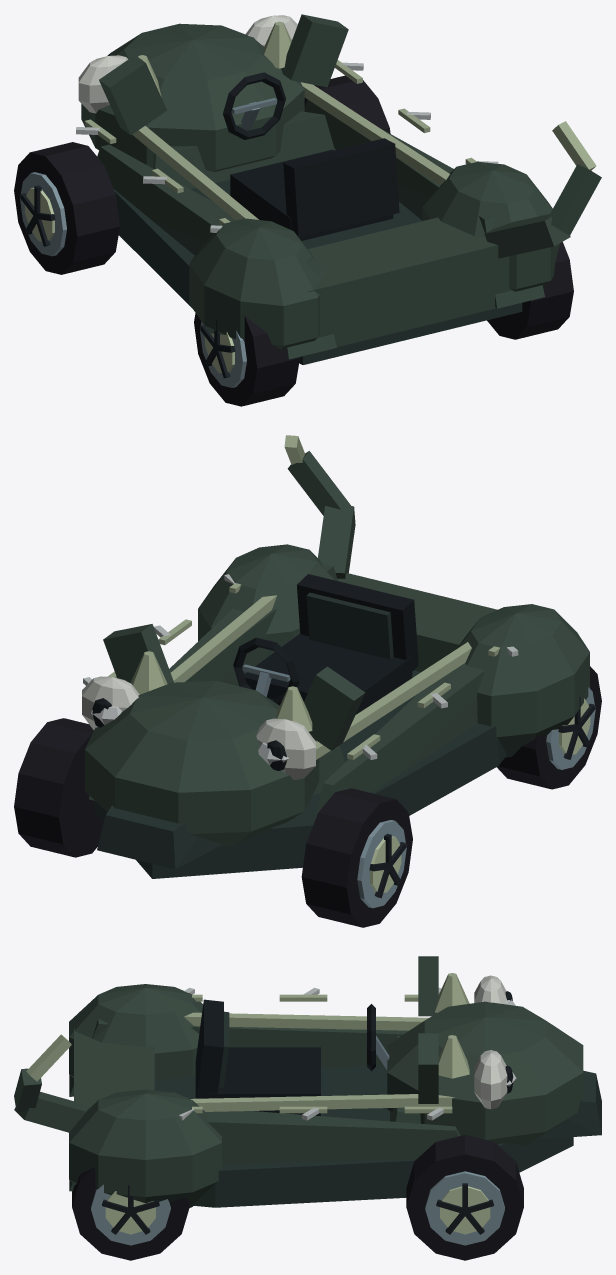
File: kart.glb
The picture shows the model from 3 angles, top to bottom: view 1: azimuth 30°, elevation 25°; view 2: azimuth 150°, elevation 25°; view 3: azimuth 270°, elevation 25°; orthographic projection. The views are drawn at different scales.
Visible parts, largest first — view 1: identity-beast-beast-sculpted-prow-and-haunches, identity-beast-driver-cockpit, wheel-front-left, wheel-rear-left, identity-beast-motif-tail, wheel-rear-right, identity-beast-motif-eyes, identity-beast-motif-runes, wheel-front-right; view 2: identity-beast-beast-sculpted-prow-and-haunches, identity-beast-driver-cockpit, wheel-front-left, wheel-front-right, wheel-rear-left, identity-beast-motif-eyes, identity-beast-motif-tail, identity-beast-motif-runes; view 3: identity-beast-beast-sculpted-prow-and-haunches, wheel-front-right, identity-beast-driver-cockpit, wheel-rear-right, identity-beast-motif-tail, identity-beast-motif-eyes, identity-beast-motif-runes.
Part boxes in pixels (bbox=[...]): identity-beast-beast-sculpted-prow-and-haunches: bbox=[81, 14, 560, 364]; identity-beast-driver-cockpit: bbox=[223, 72, 399, 240]; wheel-front-left: bbox=[14, 142, 119, 274]; wheel-rear-left: bbox=[194, 313, 299, 406]; identity-beast-motif-tail: bbox=[484, 121, 601, 258]; wheel-rear-right: bbox=[487, 242, 573, 339]; identity-beast-motif-eyes: bbox=[78, 15, 297, 113]; identity-beast-motif-runes: bbox=[76, 60, 498, 232]; wheel-front-right: bbox=[304, 75, 390, 133]; identity-beast-beast-sculpted-prow-and-haunches: bbox=[85, 544, 589, 878]; identity-beast-driver-cockpit: bbox=[233, 574, 418, 714]; wheel-front-left: bbox=[301, 788, 412, 927]; wheel-front-right: bbox=[14, 718, 103, 857]; wheel-rear-left: bbox=[497, 666, 601, 789]; identity-beast-motif-eyes: bbox=[82, 676, 315, 779]; identity-beast-motif-tail: bbox=[284, 435, 355, 578]; identity-beast-motif-runes: bbox=[83, 574, 518, 759]; identity-beast-beast-sculpted-prow-and-haunches: bbox=[69, 956, 601, 1207]; wheel-front-right: bbox=[406, 1135, 523, 1260]; identity-beast-driver-cockpit: bbox=[195, 999, 389, 1115]; wheel-rear-right: bbox=[72, 1167, 189, 1260]; identity-beast-motif-tail: bbox=[14, 1034, 90, 1132]; identity-beast-motif-eyes: bbox=[474, 975, 513, 1109]; identity-beast-motif-runes: bbox=[179, 987, 452, 1120].
Size of the model in its own units: 2.01 by 1.3 by 3.2.
